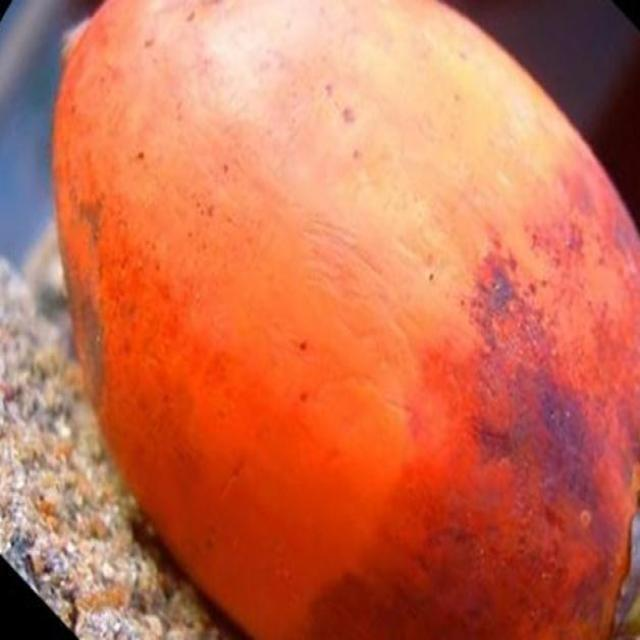good: (51, 0, 639, 639)
